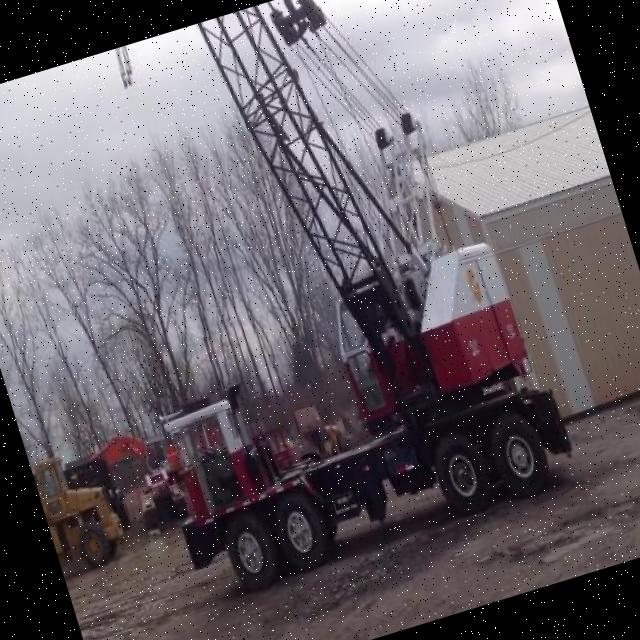Mobile Crane: (43, 0, 578, 602)
